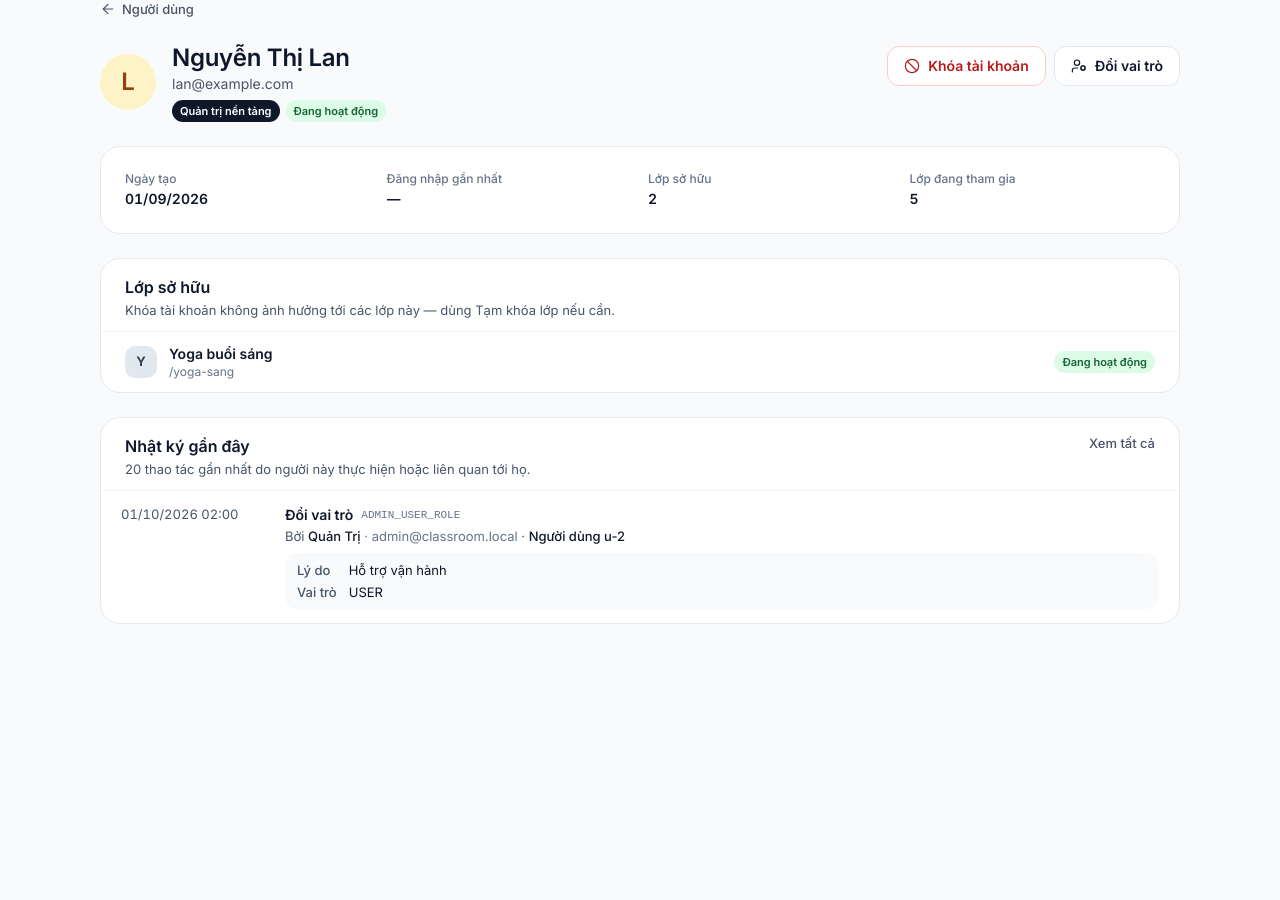
AdminUserDetail actions › changes the role with PUT {role, reason} and shows a 409 from the server inline, keeping the dialog open
Click the button "Đổi vai trò": (1117, 66) top-left (1054, 46), bottom-right (1180, 86)
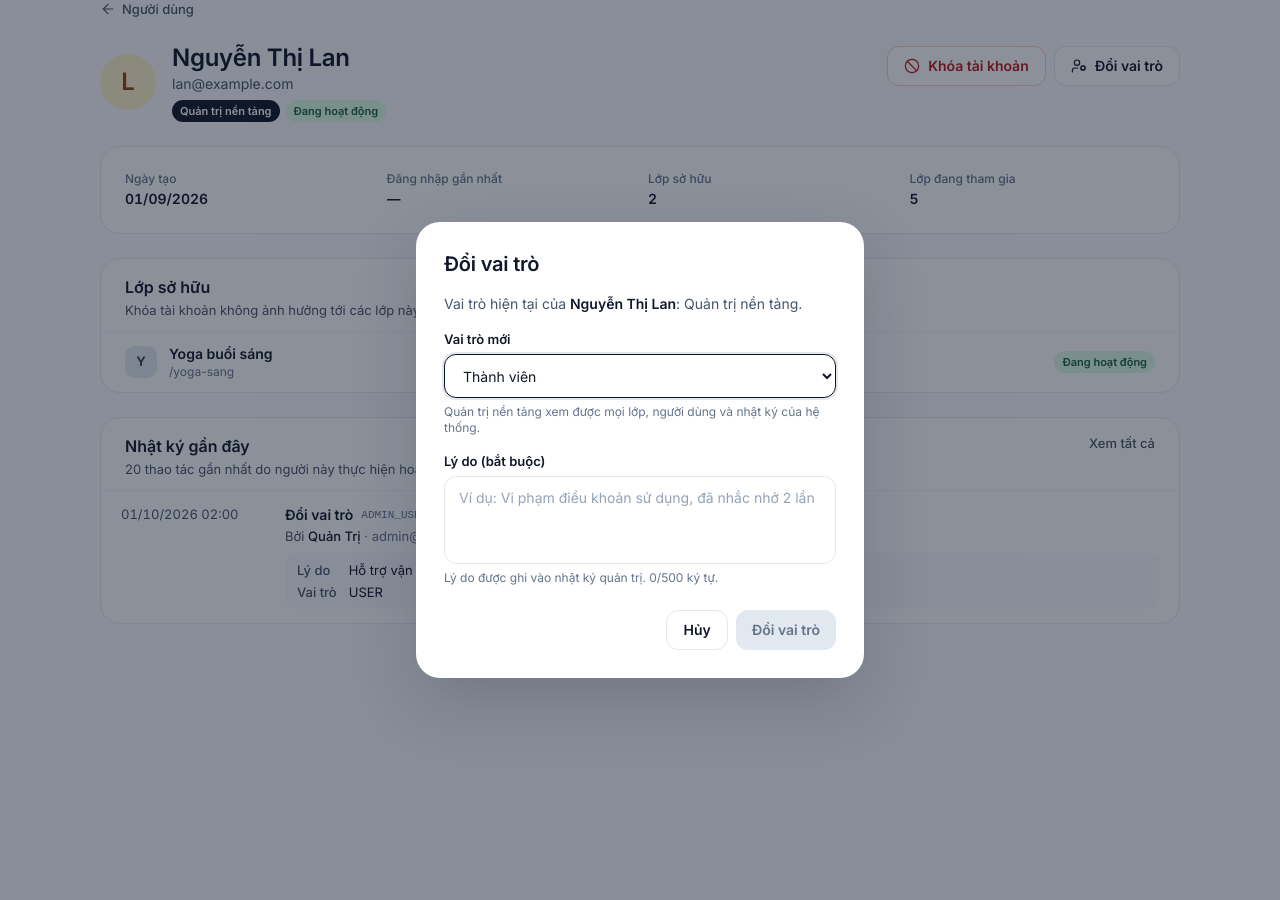
Check: the dropdown labelled "Vai trò mới" shows "Thành viên", box top-left (444, 354), bottom-right (836, 398)
In the text box labelled "Lý do (bắt buộc)": (640, 520) top-left (444, 476), bottom-right (836, 564), type "Rời nhóm vận hành"
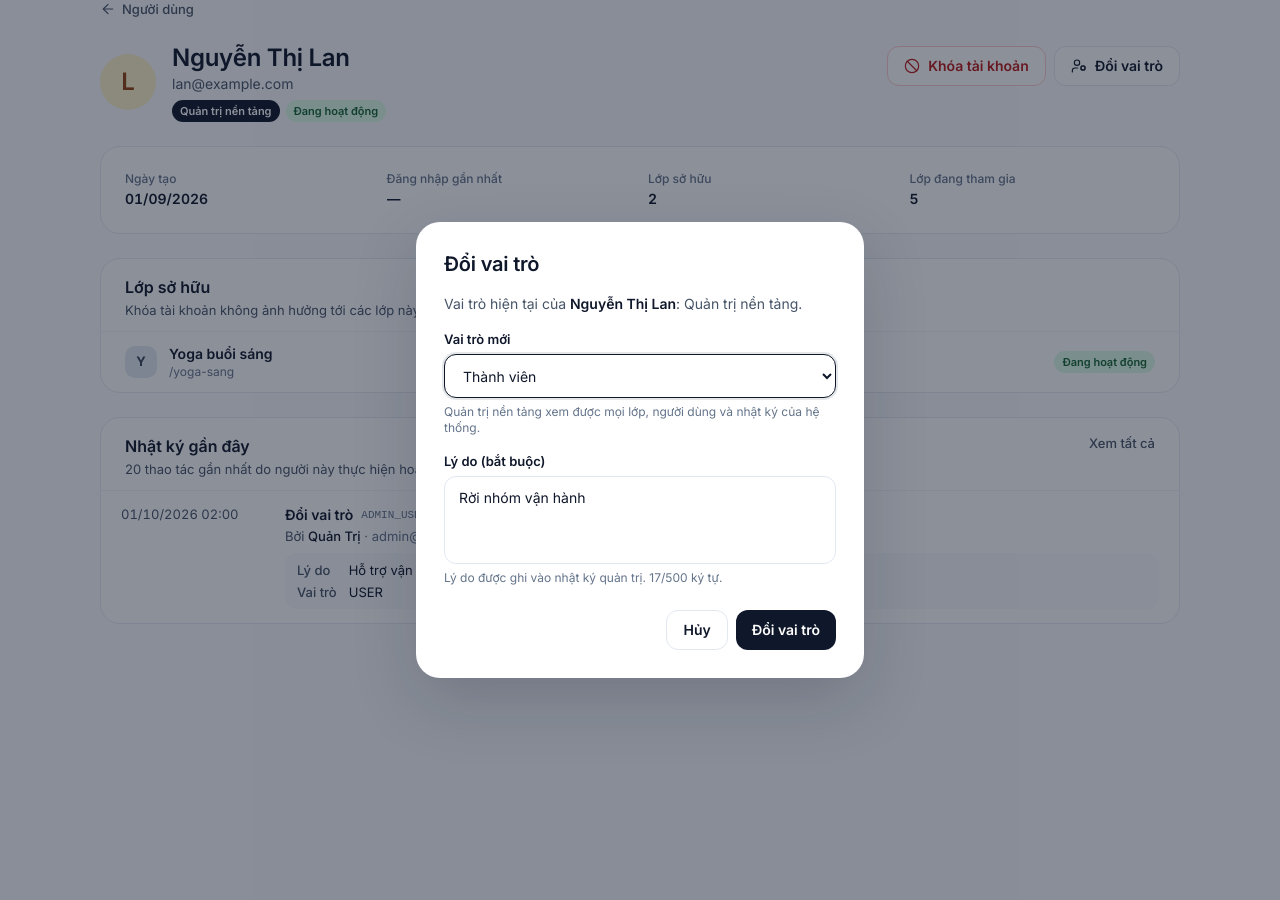
Click the button "Đổi vai trò": (786, 630) top-left (736, 610), bottom-right (836, 650)
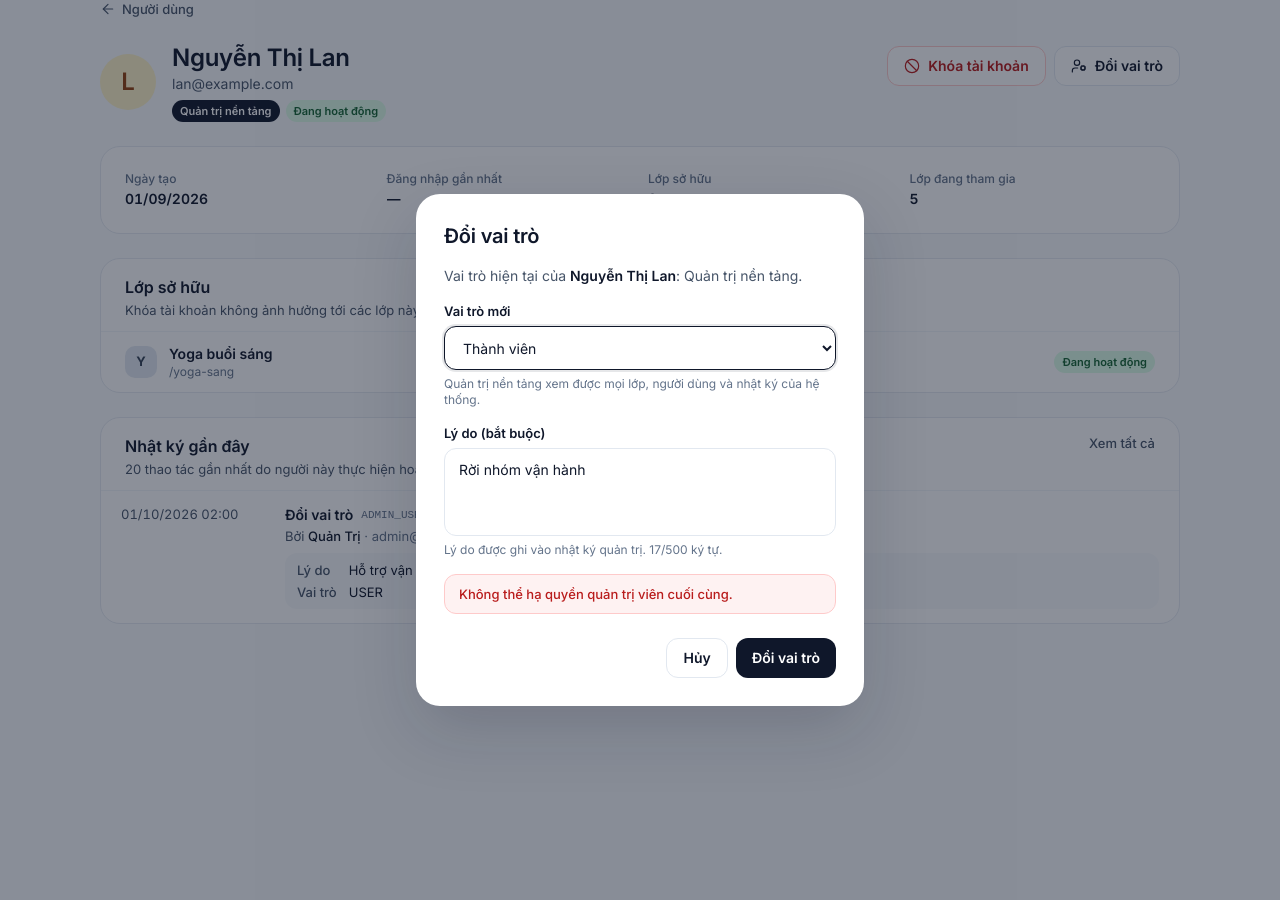
Check: the dialog is shown, box top-left (416, 194), bottom-right (864, 706)
Check: the text "Không thể hạ quyền quản trị viên cuối cùng." is shown, box top-left (444, 574), bottom-right (836, 614)
